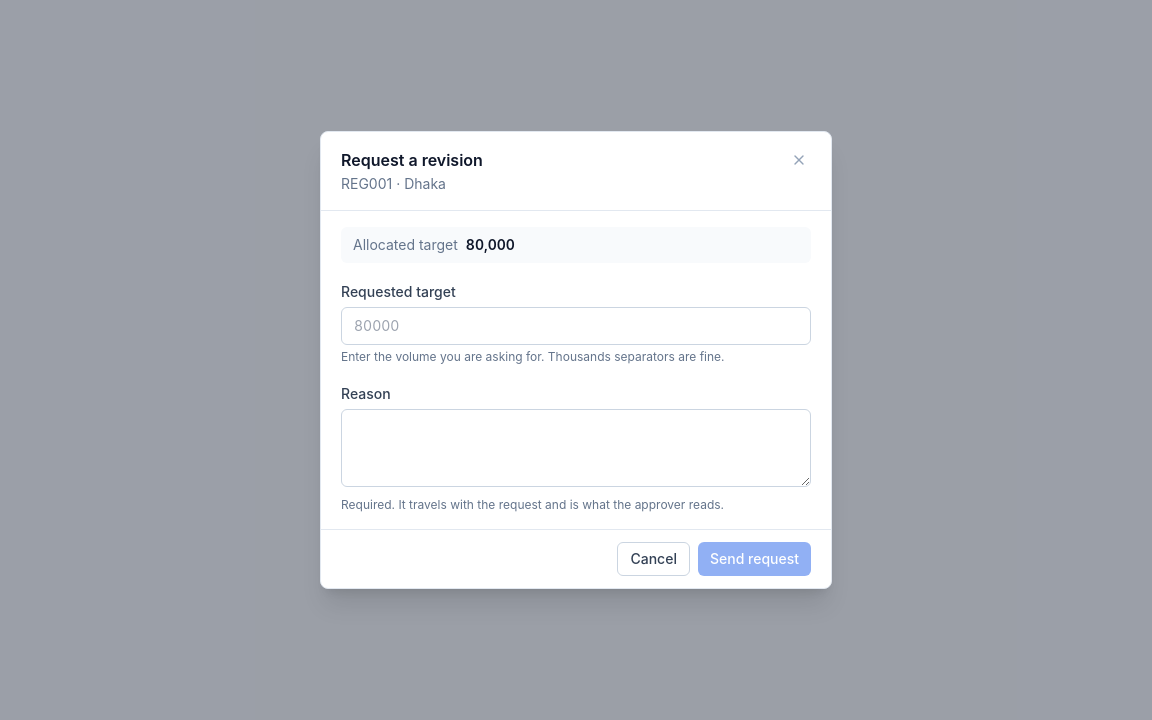
Scenario: RevisionDialog › warns before submitting that a large change will escalate
Step 1. Type "120000" into the field → (576, 326), box [341,307,811,345]
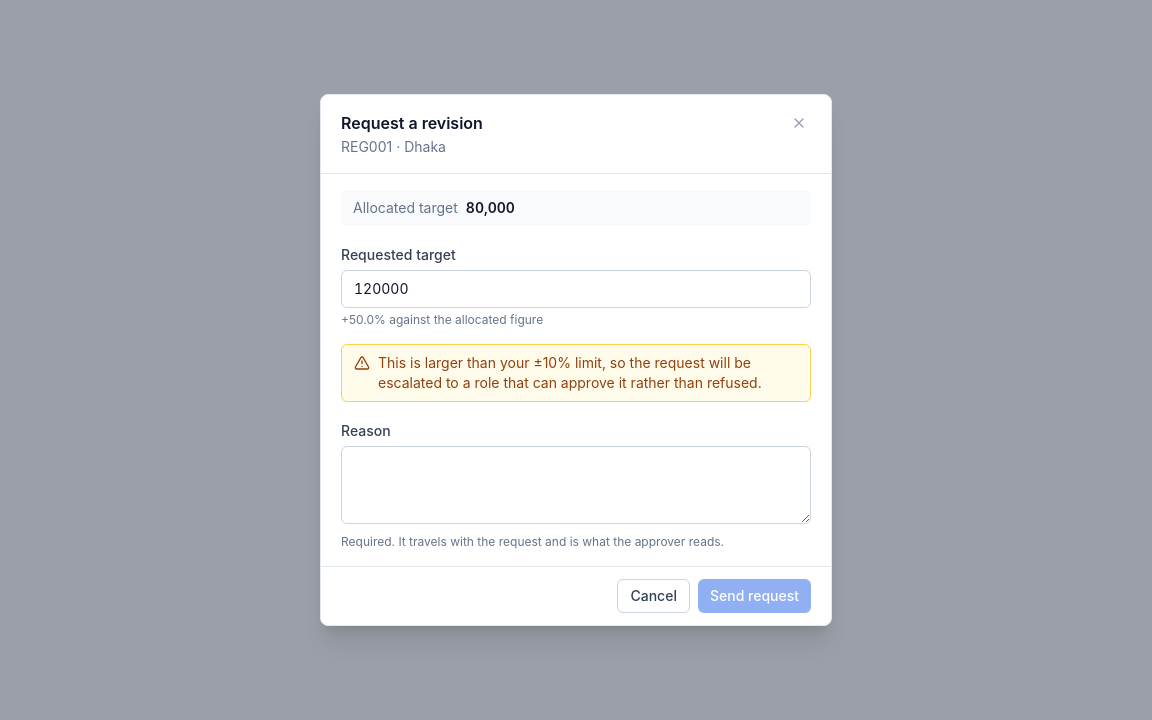
Now the text "escalated" is shown, box [378,354,762,391]
